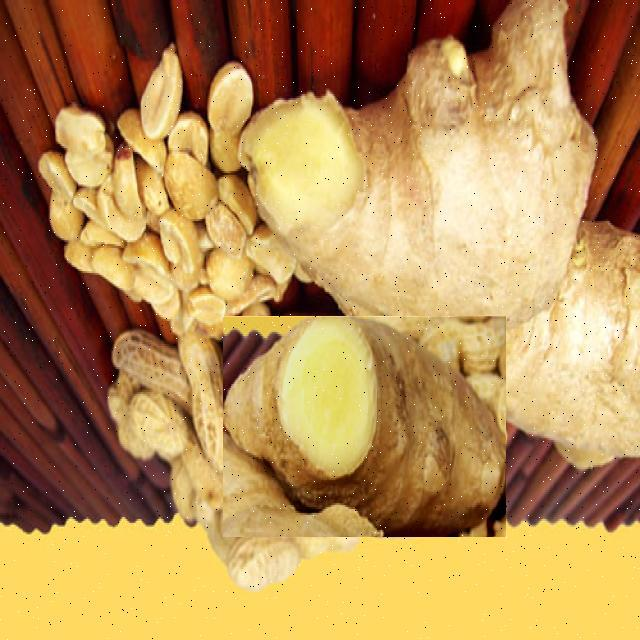ginger: (241, 1, 639, 466), (222, 316, 505, 535)
